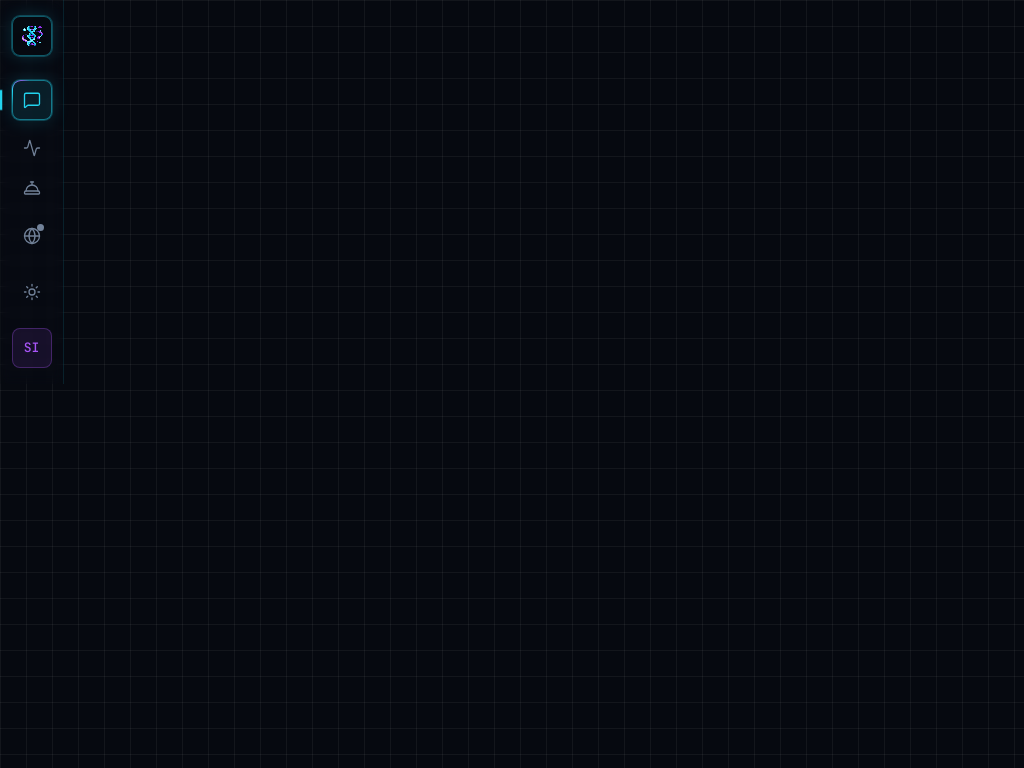
Test: T7 popover 启动按钮三态切换（契约 v0.9 web.start 显式启动通路） › connecting 态：双禁用 + 启动钮文案「连接中…」
The image size is (1024, 768).
Click the button with id "btn-web-status".
click(32, 236)  # box [12, 216, 52, 256]
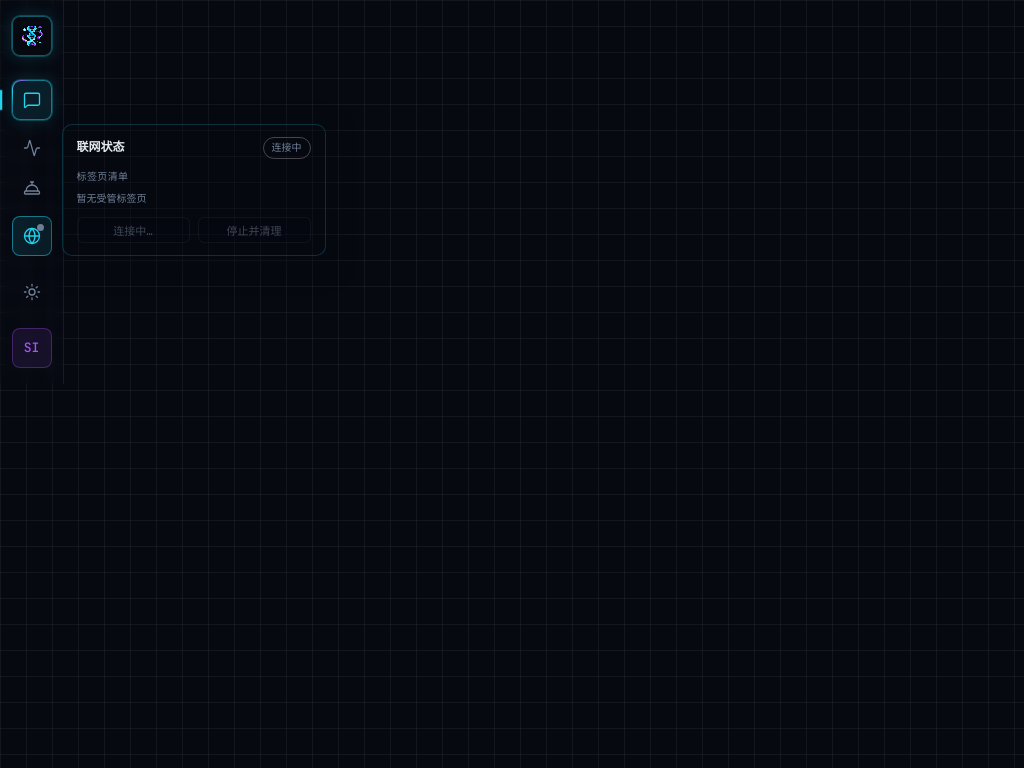
Expected: the button with id "btn-web-start" is disabled, [76, 217, 190, 243]
Expected: the button with id "btn-web-start" shows "连接中", [76, 217, 190, 243]
Expected: the button with id "btn-web-stop" is disabled, [198, 217, 310, 243]
